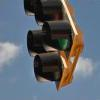Traffic light: (24, 0, 83, 88)
